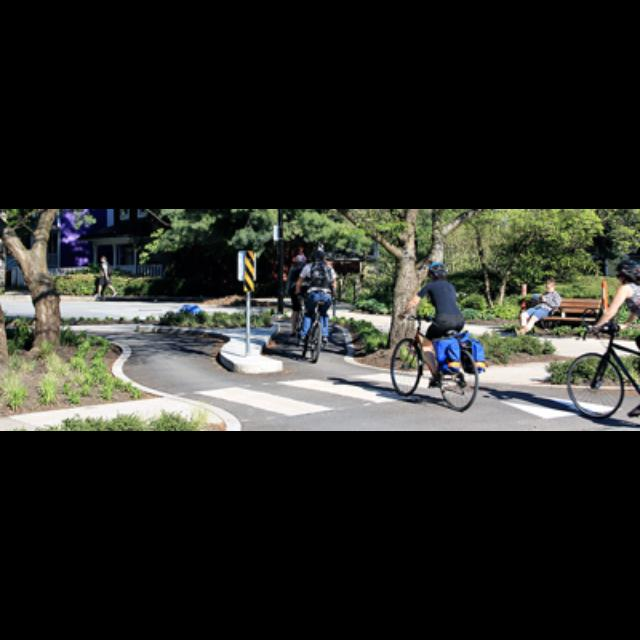With Helmet: (423, 259, 452, 283)
